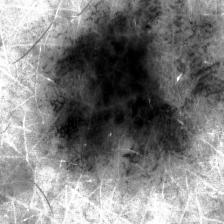Benign Marking or Mole: (46, 26, 184, 162)
